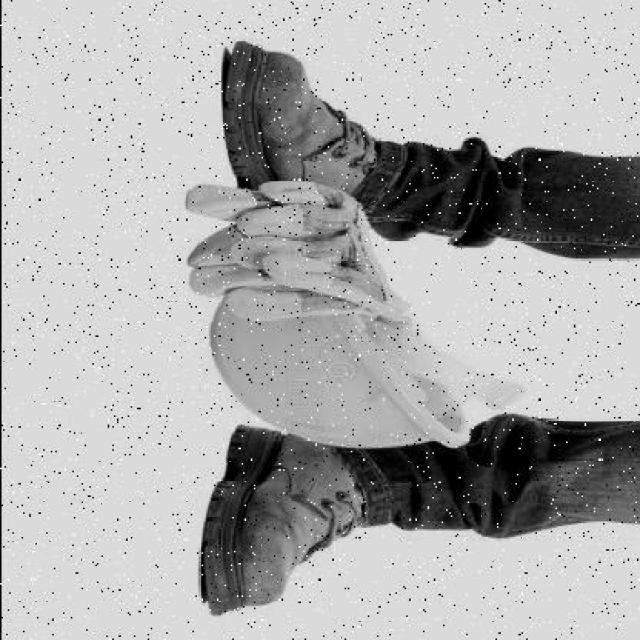shoes: (175, 444, 360, 619), (213, 41, 382, 181)
